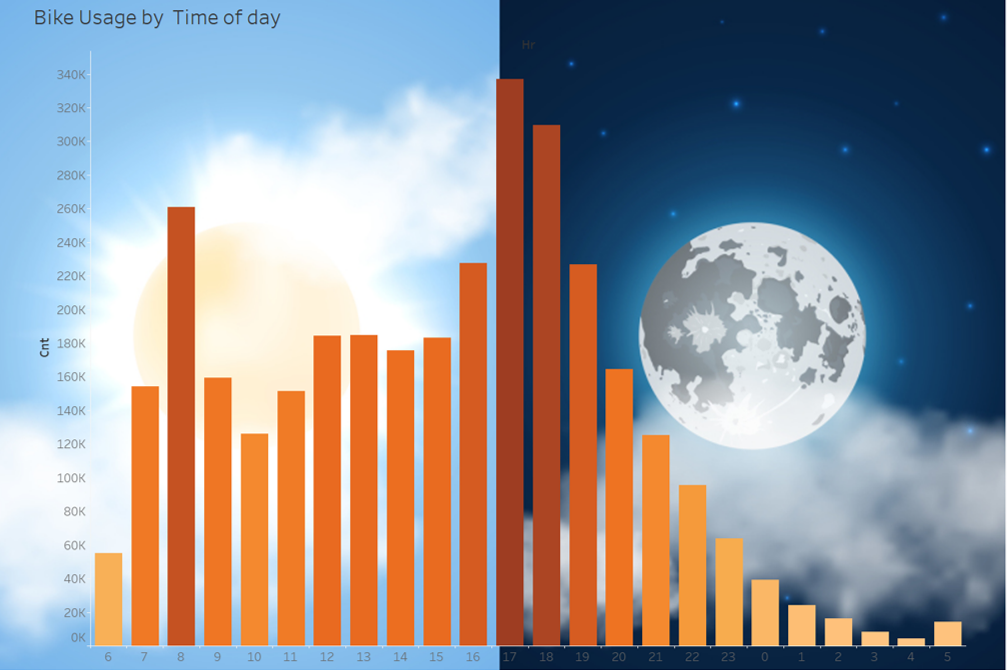

Layout of this report page (visuals, bound fields, positions):
{"tool":"tableau","page":{"name":"Time of day usage ","canvas":[1000,1000],"units":"permille","ordinal":0},"visuals":[{"type":"image","param":"Image/day_and_night_2.jpg","box":[5,9.9,990,980.1]},{"type":"worksheet","title":"Hours","mark":"Automatic","rows":["cnt"],"cols":["hr"],"box":[133.4,16.1,730.7,964]}]}

Visuals, with their boxes on the dashboard's canvas, which has no fixed pixel size, in thousandths of its width and height (x1, y1, x2, y2). These are canvas units, not pixel positions in the 1008x670 screenshot, which may show the page scaled, cropped or inside an application window:
image: <bbox>5, 10, 995, 990</bbox>
"Hours" worksheet: <bbox>133, 16, 864, 980</bbox>
